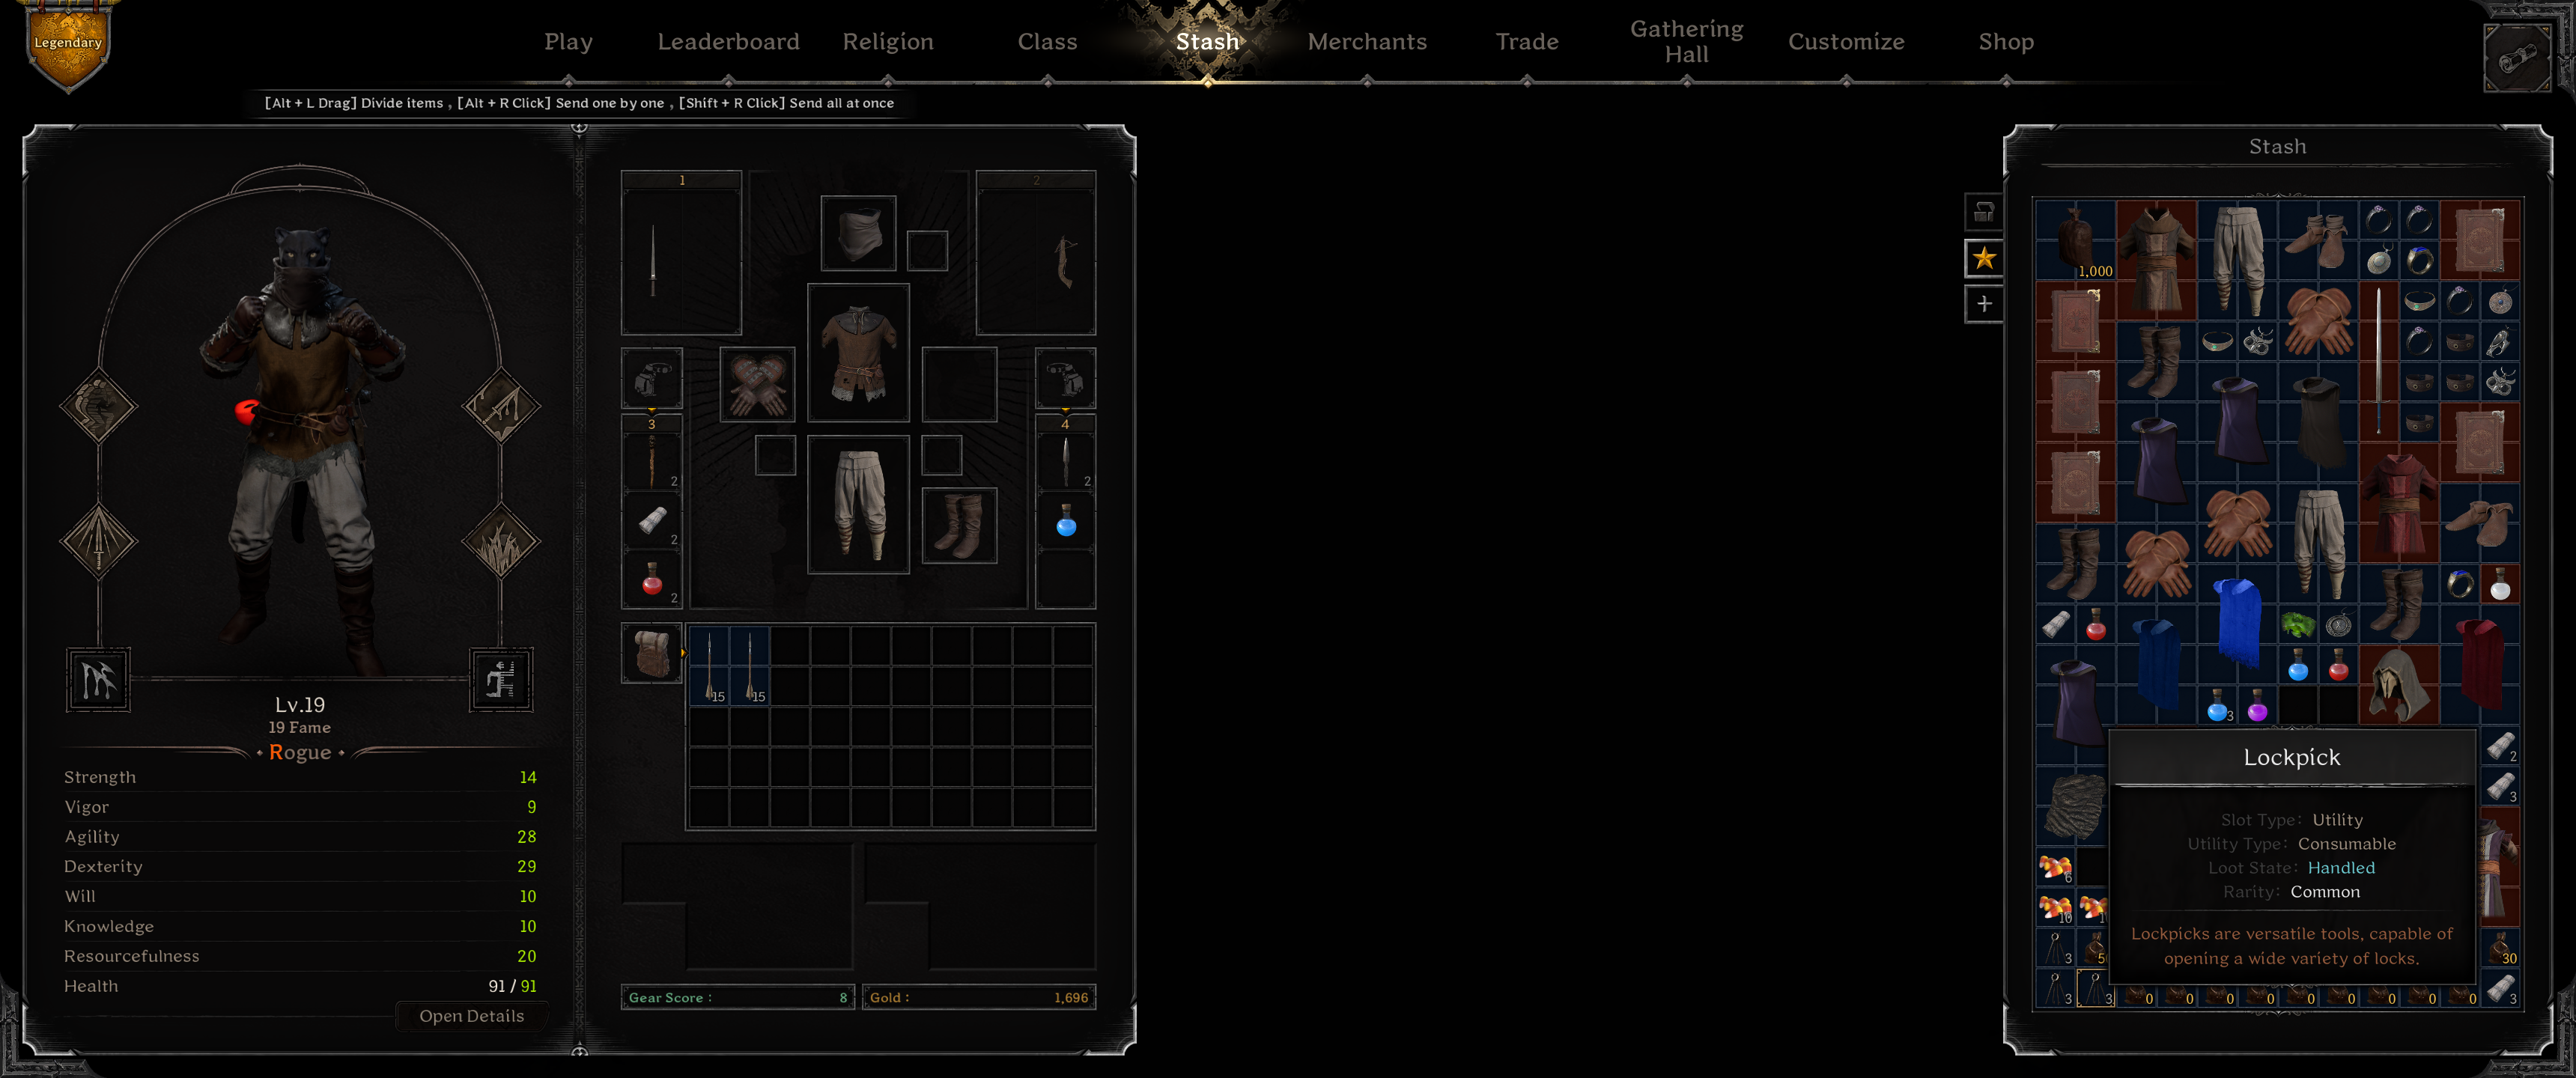Tooltip: (2108, 726, 2477, 986)
